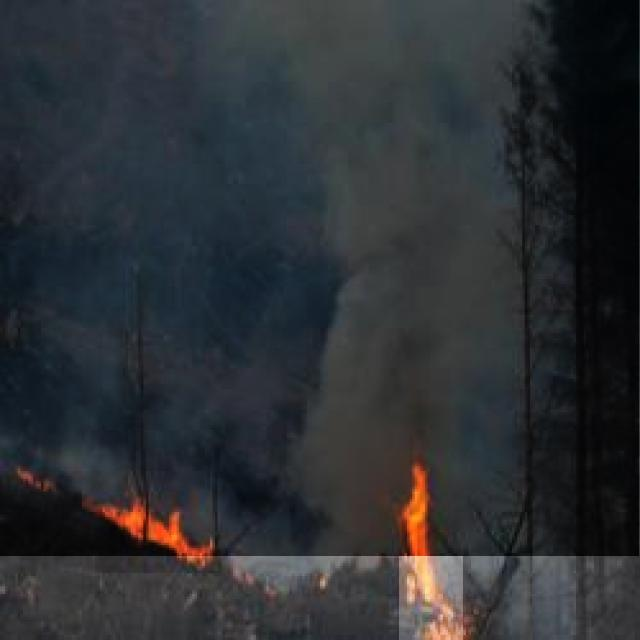Fire: (399, 458, 463, 640), (95, 487, 221, 573)
Smoke: (0, 0, 639, 556)
